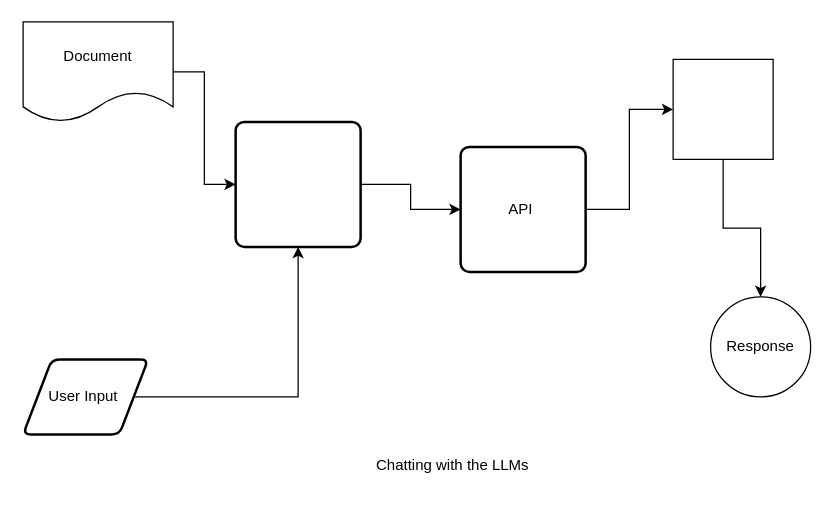
Image size: 833x506. Some labels were removed from this diagram. Each missing label, with the box of its shape:
Context + User Input: (234, 120, 361, 248)
LLM: (672, 58, 773, 159)
